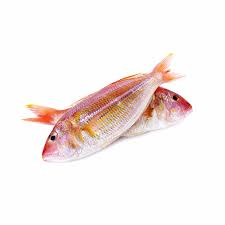Ikan Kerisi: (38, 59, 165, 163)
